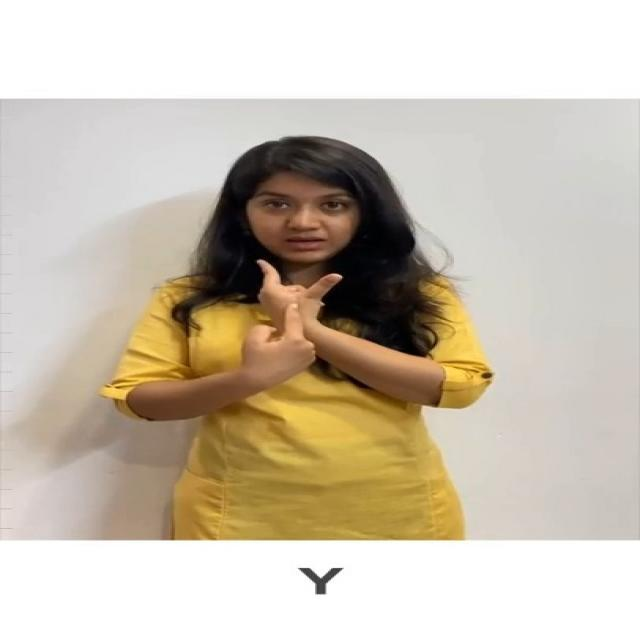Y: (224, 256, 355, 380)
